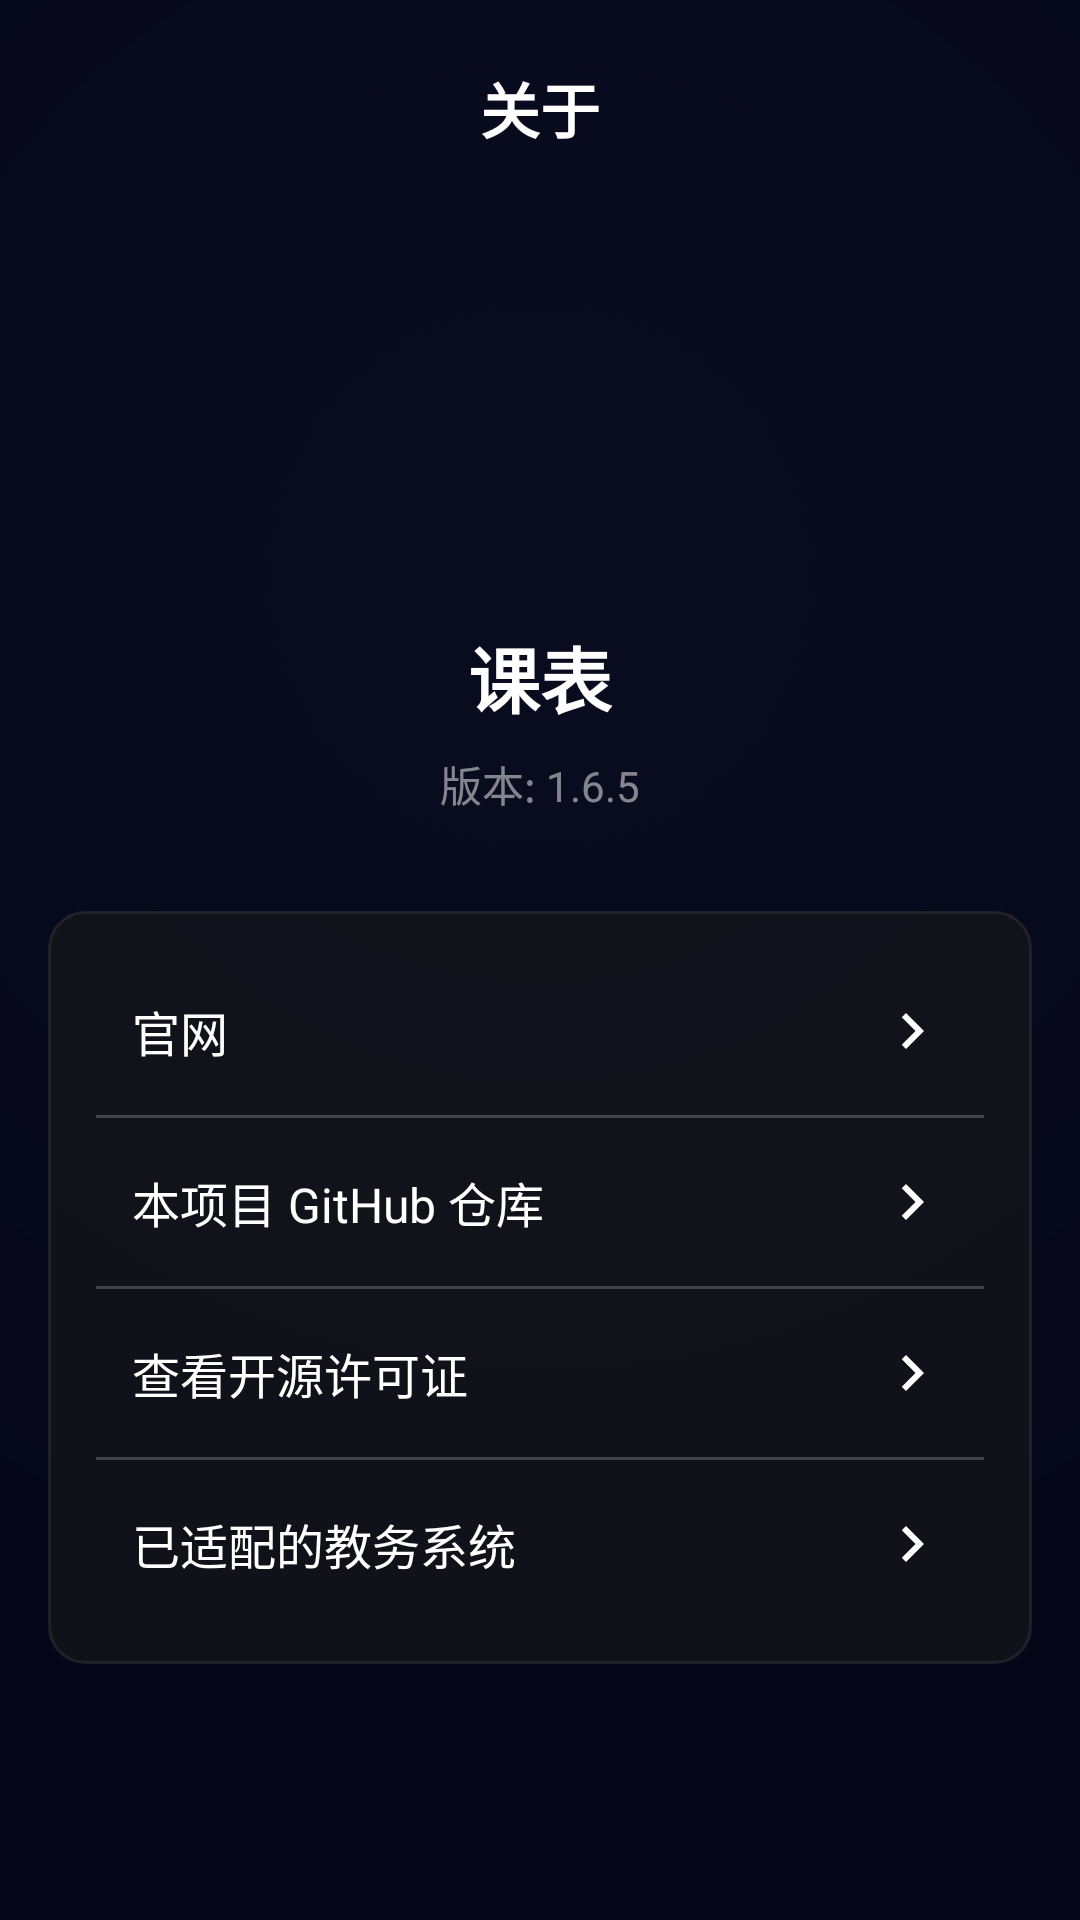

Named icons in this screenshot (1080px x 1920px) and their bounding boxes, (x1, y1, x2, y2):
箭头: (902, 1013, 924, 1049), (902, 1184, 924, 1220), (902, 1355, 924, 1391), (902, 1526, 924, 1562)
